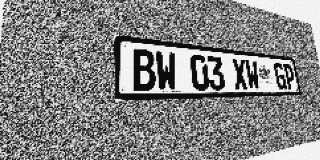0: (189, 54, 210, 90)
3: (206, 56, 225, 90)
B: (131, 48, 156, 91)
G: (273, 63, 287, 90)
P: (283, 63, 296, 90)
W: (155, 51, 178, 91), (244, 60, 260, 90)
X: (231, 58, 248, 90)
